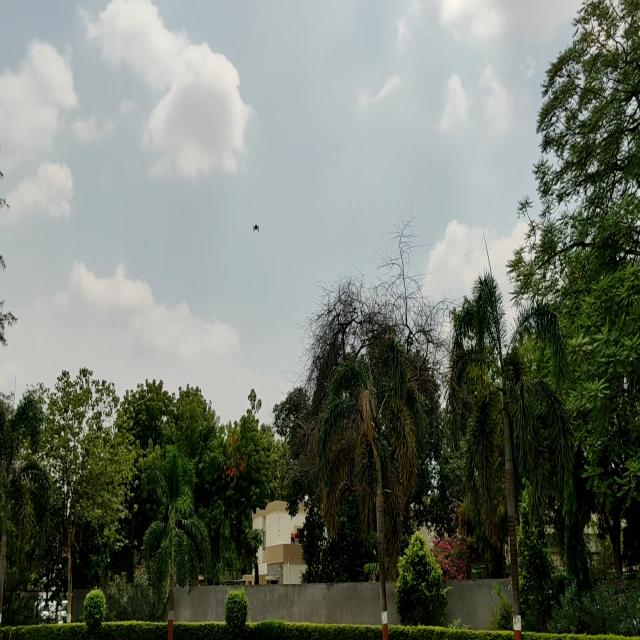drone: (248, 218, 264, 237)
